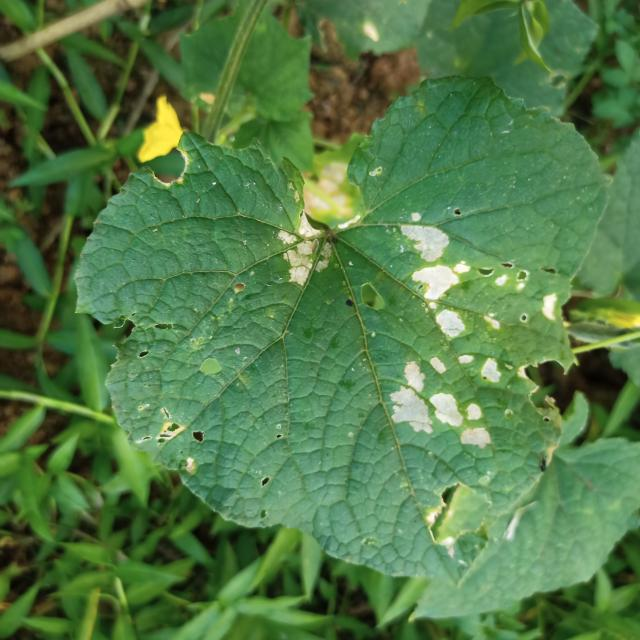disease_cucumber: (390, 209, 571, 348), (381, 347, 522, 469), (268, 199, 337, 290)
